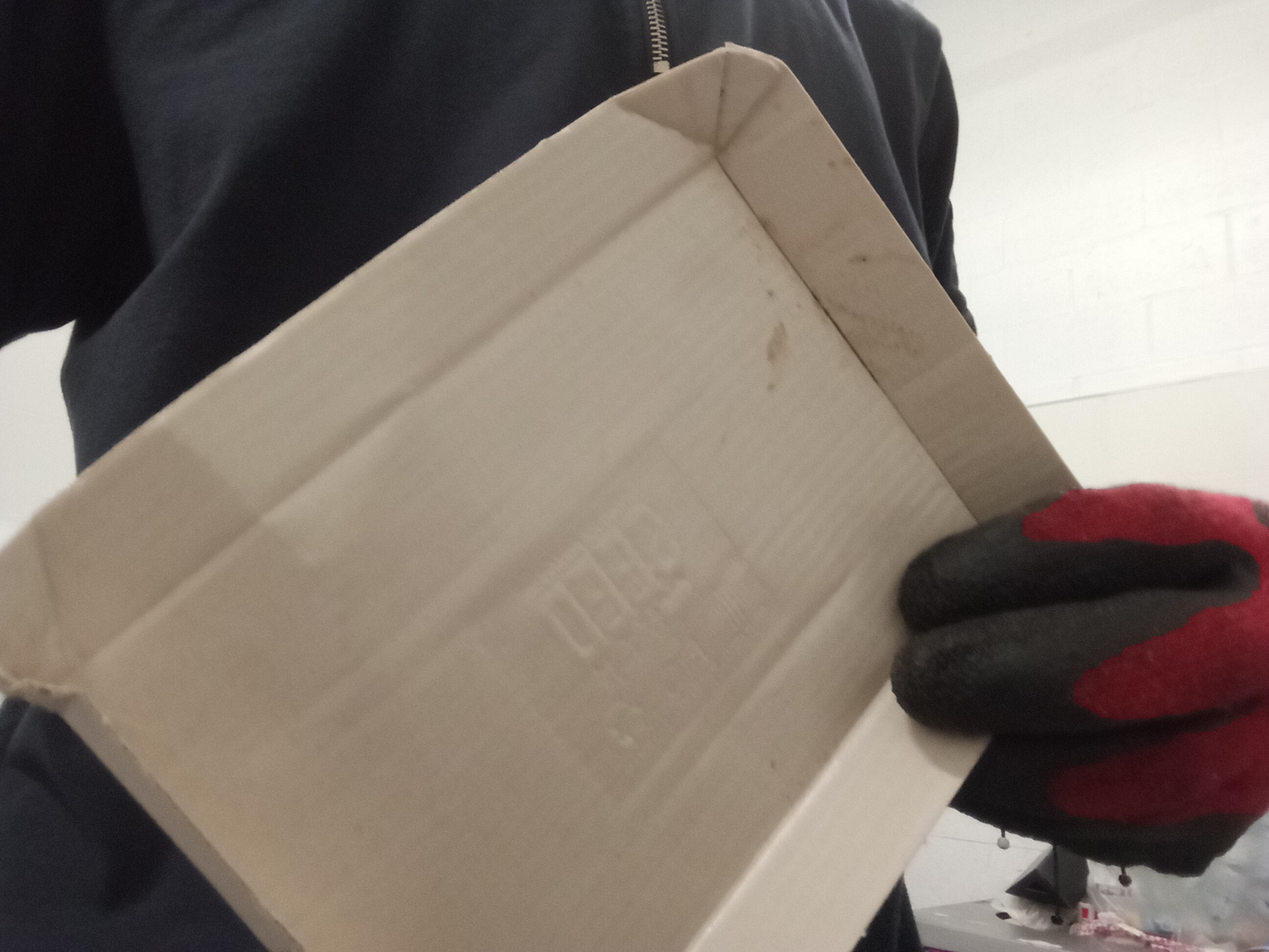Carton: (4, 44, 1087, 952)
